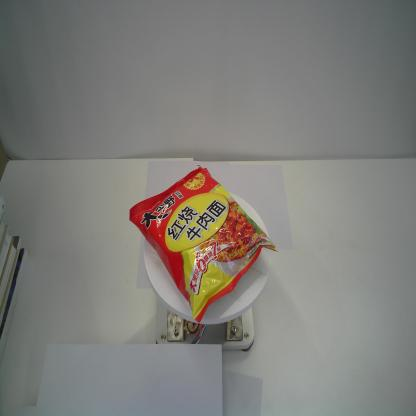Instant Noodles: (128, 166, 278, 324)
